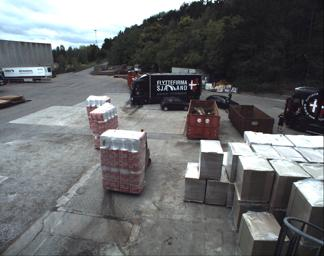rockwool_batts: (100, 127, 145, 193), (88, 105, 118, 148), (86, 92, 110, 123)
